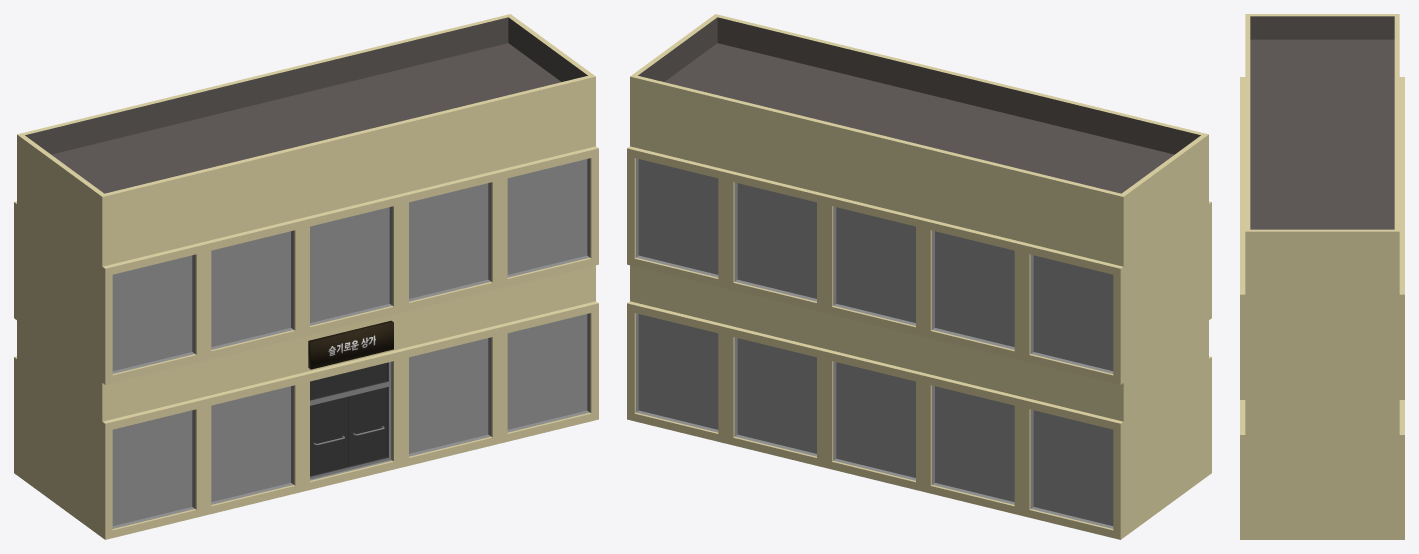
Rendered from shopping_area.fbx.
3 views of the same model, side by side, from view 1: azimuth 30°, elevation 25°; view 2: azimuth 150°, elevation 25°; view 3: azimuth 270°, elevation 25° (orthographic). The views are drawn at different scales.
Visible parts, largest first — view 1: shopping.area; view 2: shopping.area; view 3: shopping.area.
Part boxes in pixels (left/top/right/bottom): shopping.area: left=14, top=14, right=598, bottom=539; shopping.area: left=627, top=14, right=1211, bottom=539; shopping.area: left=1240, top=14, right=1404, bottom=539.
Size of the model in its own units: 20 by 13.2 by 6.4.
8 materials, 1 textured.
